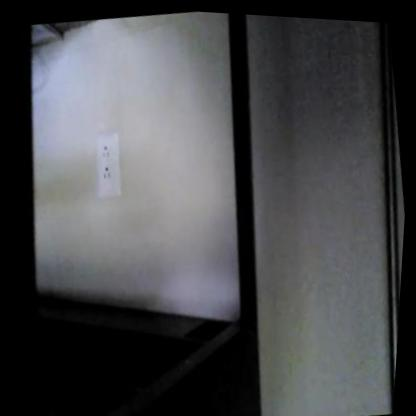OUTLET: (89, 131, 127, 200)
